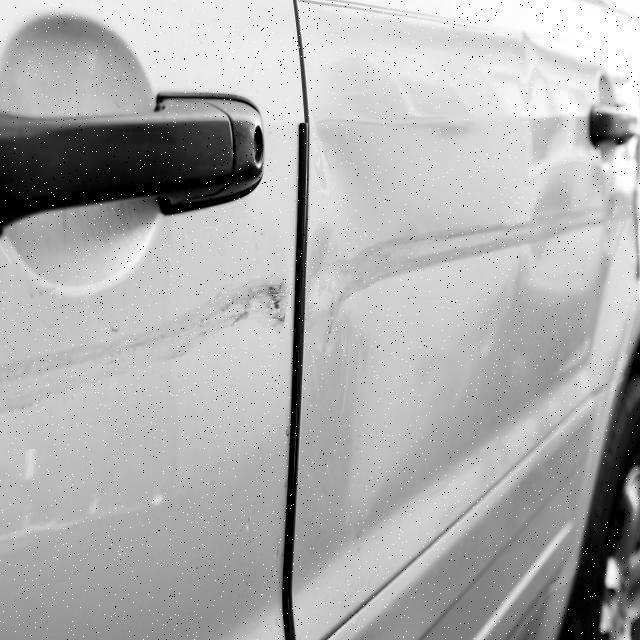doorouter-dent: (298, 2, 639, 639), (0, 5, 300, 639)
